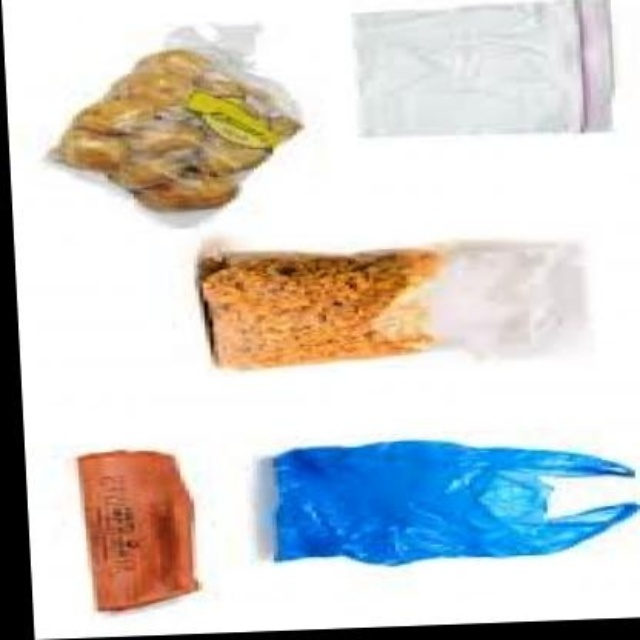trash: (198, 242, 585, 366), (51, 28, 300, 209), (274, 442, 638, 563), (352, 0, 612, 134), (78, 451, 197, 609)
